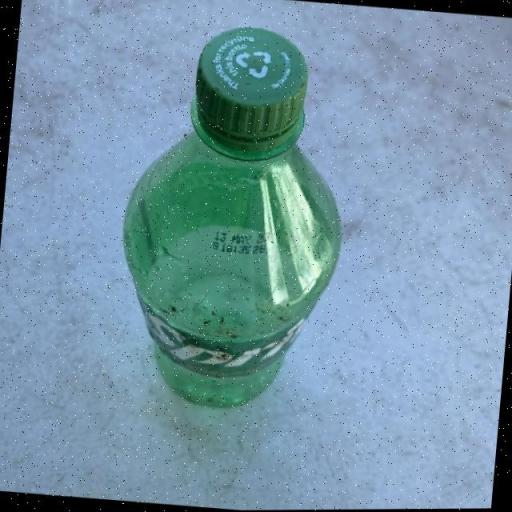plastic: (106, 16, 360, 418)
